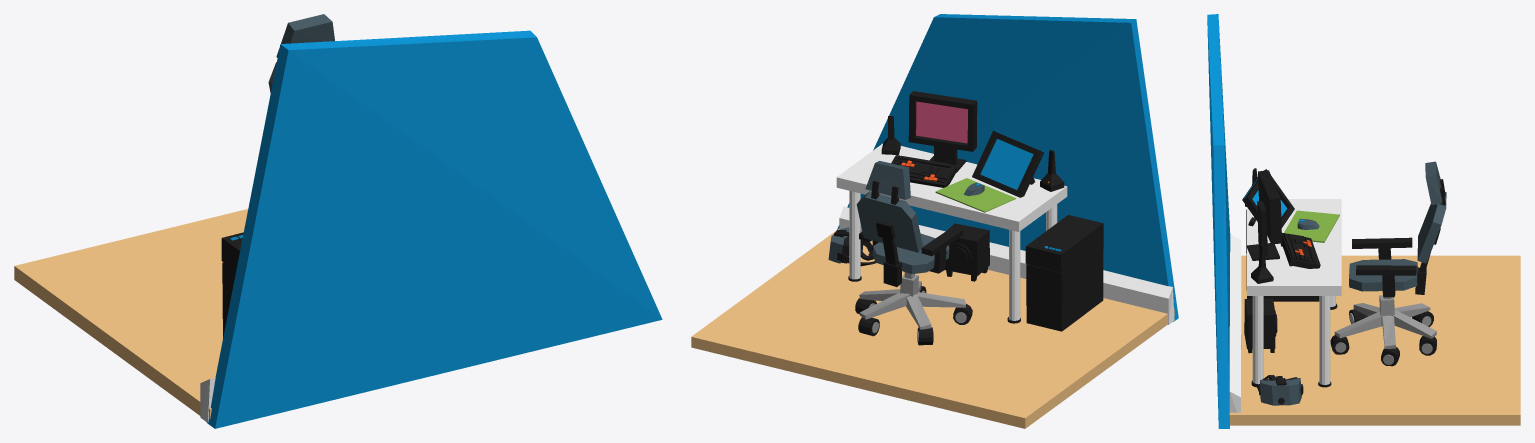
File: model-triangulated.obj
The picture shows the model from 3 angles, left to right: view 1: azimuth 30°, elevation 25°; view 2: azimuth 150°, elevation 25°; view 3: azimuth 270°, elevation 25°; orthographic projection. The views are drawn at different scales.
Parts seen in each view (by area): view 1: group1851643174, group2028715552, group1667325453, group888398126; view 2: group2028715552, group1851643174, group888398126, group1983538, group81405755, group1349567328, group925625628, group1208538528, group431115471, group755938708, group782932201, group1667325453 (+9 smaller); view 3: group2028715552, group1851643174, group1983538, group1349567328, group81405755, group1394341533, group2046477336, group1208538528, group1716067366, group755938708, group2099217571, group925625628 (+13 smaller).
Part boxes in pixels (x1,y1,x2,y2): group1851643174: (206, 30, 662, 428); group2028715552: (14, 209, 248, 419); group1667325453: (276, 14, 334, 57); group888398126: (221, 232, 243, 337); group2028715552: (691, 228, 1174, 428); group1851643174: (837, 14, 1178, 321); group888398126: (1025, 215, 1103, 331); group1983538: (836, 143, 1067, 231); group81405755: (908, 91, 977, 172); group1349567328: (839, 206, 1174, 324); group925625628: (856, 191, 922, 252); group1208538528: (945, 223, 989, 281); group431115471: (980, 131, 1043, 196); group755938708: (891, 155, 957, 187); group782932201: (935, 178, 1016, 212); group1667325453: (865, 161, 910, 199); group2028715552: (1229, 255, 1520, 425); group1851643174: (1207, 14, 1230, 428); group1983538: (1247, 199, 1341, 295); group1349567328: (1229, 234, 1241, 412); group81405755: (1246, 170, 1282, 260); group1394341533: (1349, 259, 1417, 291); group2046477336: (1257, 375, 1303, 405); group1208538528: (1244, 298, 1277, 353); group1716067366: (1319, 296, 1330, 384); group755938708: (1281, 232, 1320, 268); group2099217571: (1252, 296, 1263, 384); group925625628: (1417, 192, 1446, 263).
Bounding box in the file's own units: 2.04 × 1.61 × 1.66.
